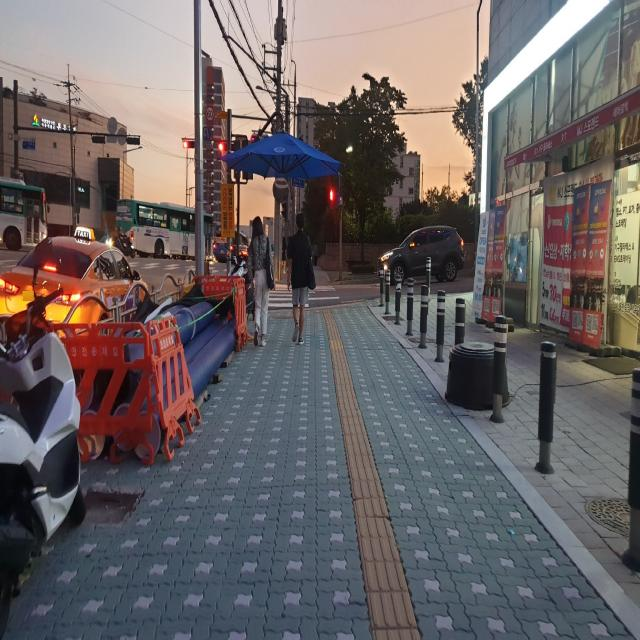빨간불: (328, 187, 336, 214)
횡단보도: (268, 284, 340, 308)
